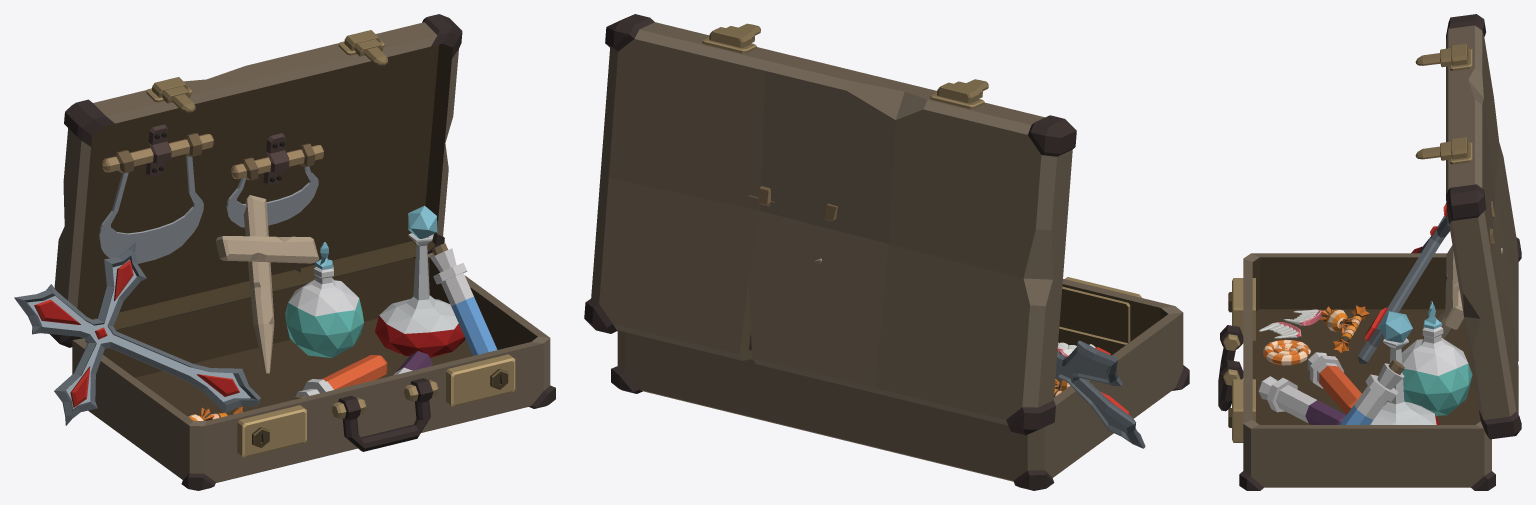
Rendered from WF_LP_HT_Props_Suitcase.001.fbx.
The picture shows the model from 3 angles, left to right: view 1: azimuth 30°, elevation 25°; view 2: azimuth 150°, elevation 25°; view 3: azimuth 270°, elevation 25°; orthographic projection. The views are drawn at different scales.
Parts seen in each view (by area): view 1: WF_LP_HT_Props_Suitcase.001; view 2: WF_LP_HT_Props_Suitcase.001; view 3: WF_LP_HT_Props_Suitcase.001.
Part boxes in pixels (bbox=[...]): WF_LP_HT_Props_Suitcase.001: bbox=[14, 14, 555, 490]; WF_LP_HT_Props_Suitcase.001: bbox=[584, 14, 1189, 490]; WF_LP_HT_Props_Suitcase.001: bbox=[1218, 14, 1521, 490].
Bounding box in the file's own units: 0.9129 × 0.6267 × 0.5555.
